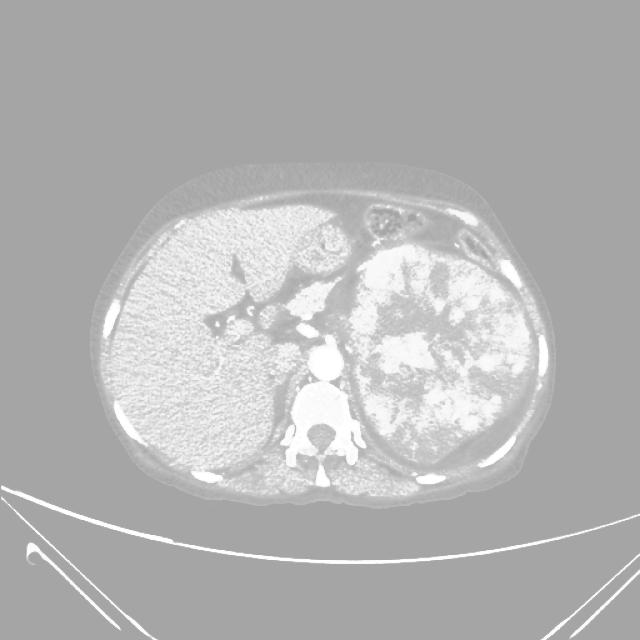TUMOR: (334, 255, 543, 449)
